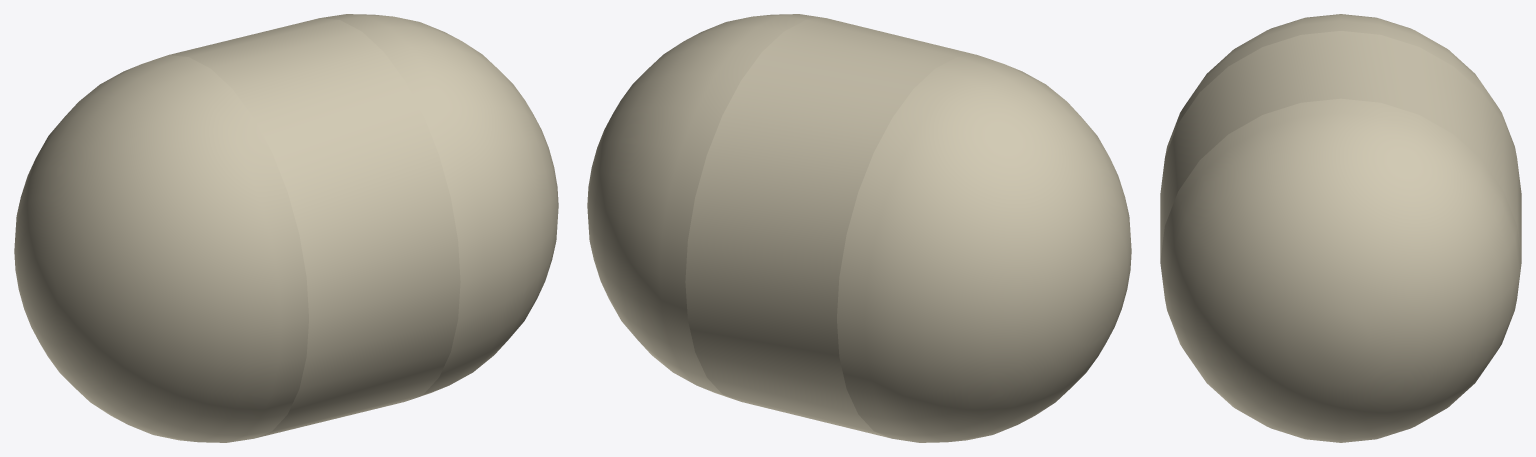
File: quad-cube.glb
3 views of the same model, side by side, from view 1: azimuth 30°, elevation 25°; view 2: azimuth 150°, elevation 25°; view 3: azimuth 270°, elevation 25° (orthographic). The views are drawn at different scales.
Parts seen in each view (by area): view 1: quad-cube; view 2: quad-cube; view 3: quad-cube.
Part boxes in pixels (left/top/right/bottom): quad-cube: left=14, top=14, right=558, bottom=442; quad-cube: left=587, top=14, right=1131, bottom=442; quad-cube: left=1160, top=14, right=1521, bottom=442.
Size of the model in its own units: 2.6 by 1.8 by 1.8.
